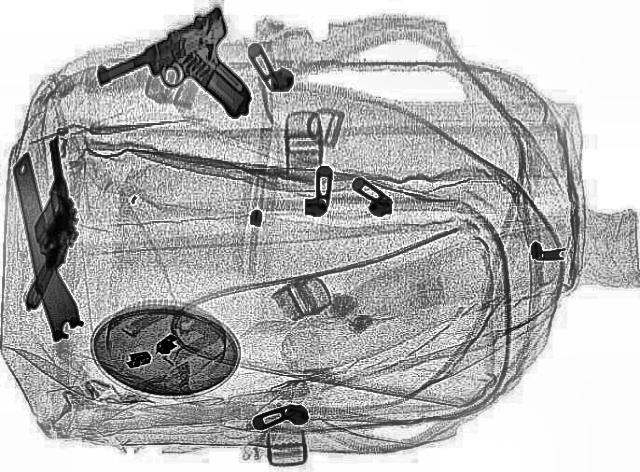Gun: (78, 3, 300, 149), (0, 137, 88, 308)
